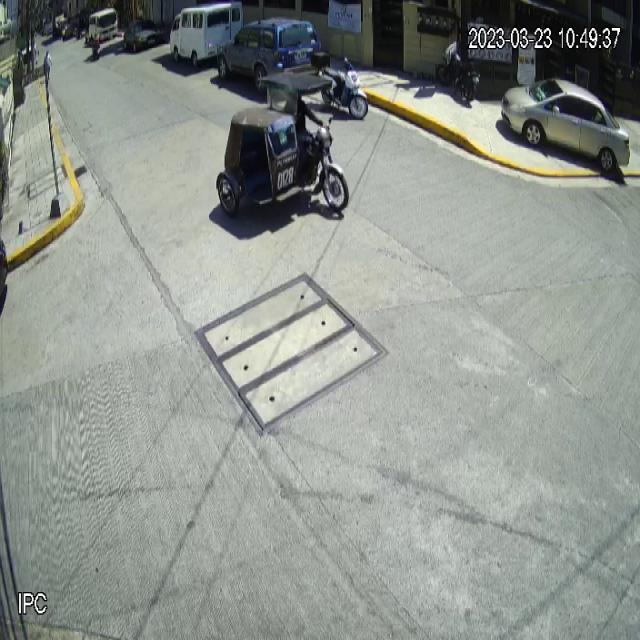Car: (501, 78, 630, 171), (216, 16, 323, 96)
Motorcycle: (309, 49, 369, 120)
Tricycle: (215, 65, 350, 217)
Van: (169, 0, 242, 69)
